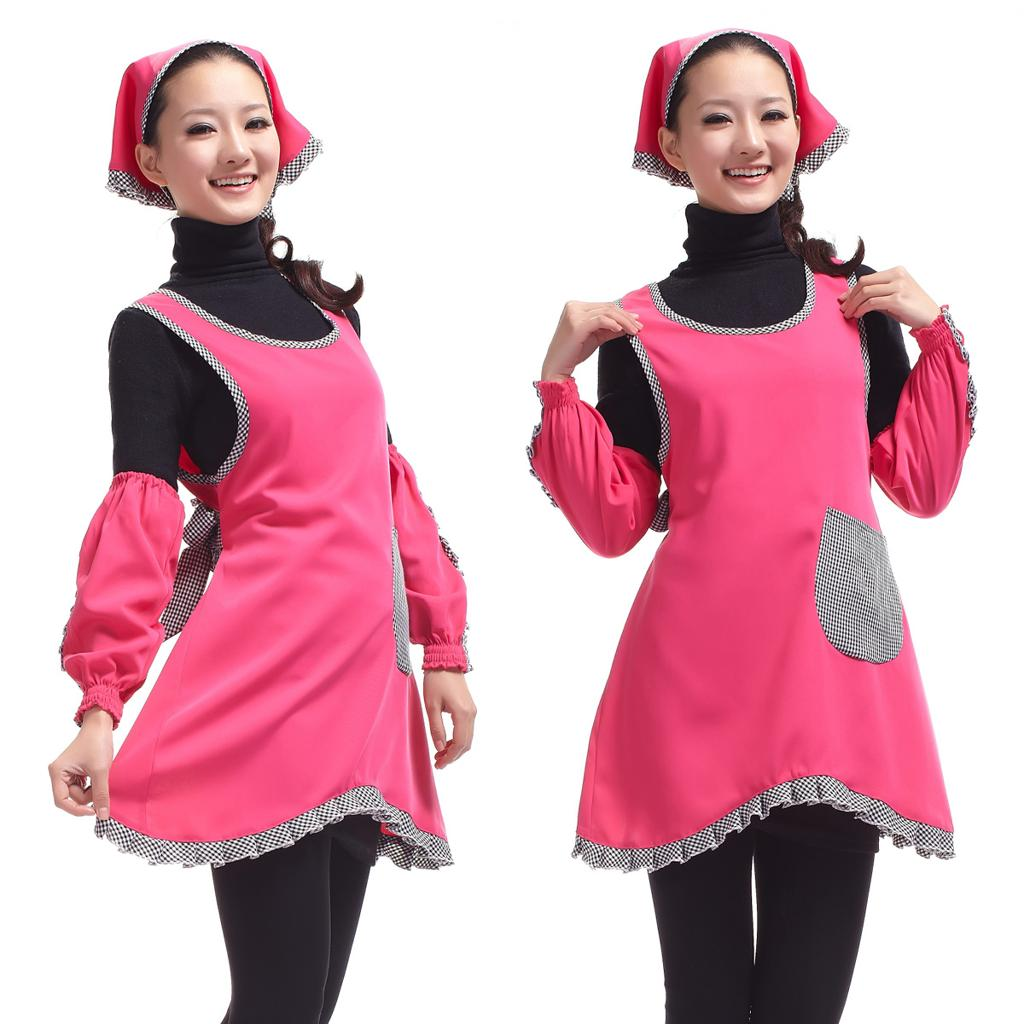face: (158, 60, 282, 224), (678, 50, 798, 212)
